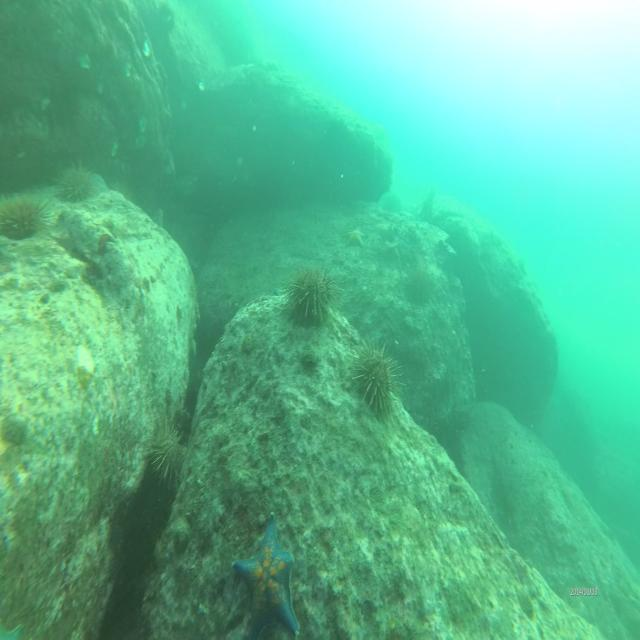echinus: (351, 336, 402, 418), (286, 262, 342, 330), (150, 410, 189, 490), (3, 190, 49, 243), (54, 161, 96, 205), (404, 256, 432, 306)
starfish: (232, 514, 303, 640), (344, 222, 366, 250)
